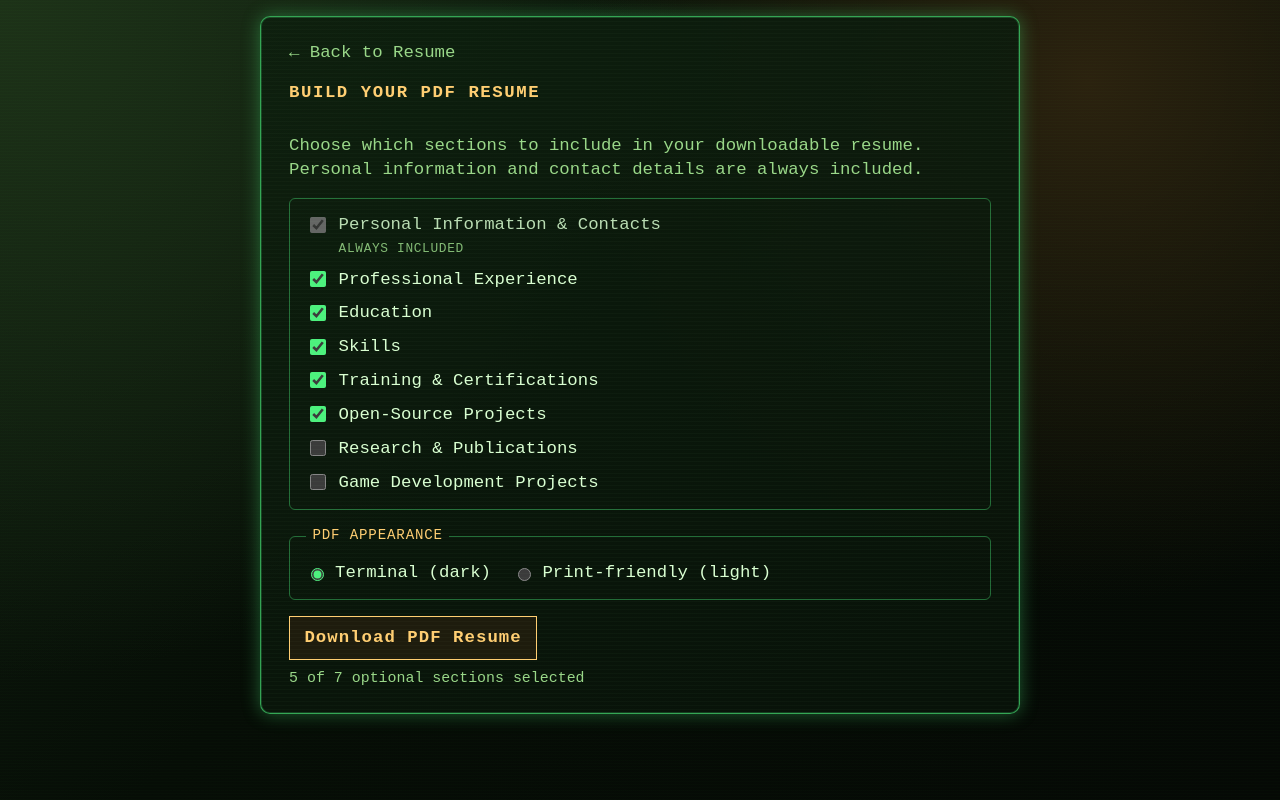
Test: CvPdfBuilderPage › shows an error message when generation fails
This screenshot has width=1280, height=800.
Click the button "Download PDF Resume".
click(413, 638)  # box [289,616,537,660]
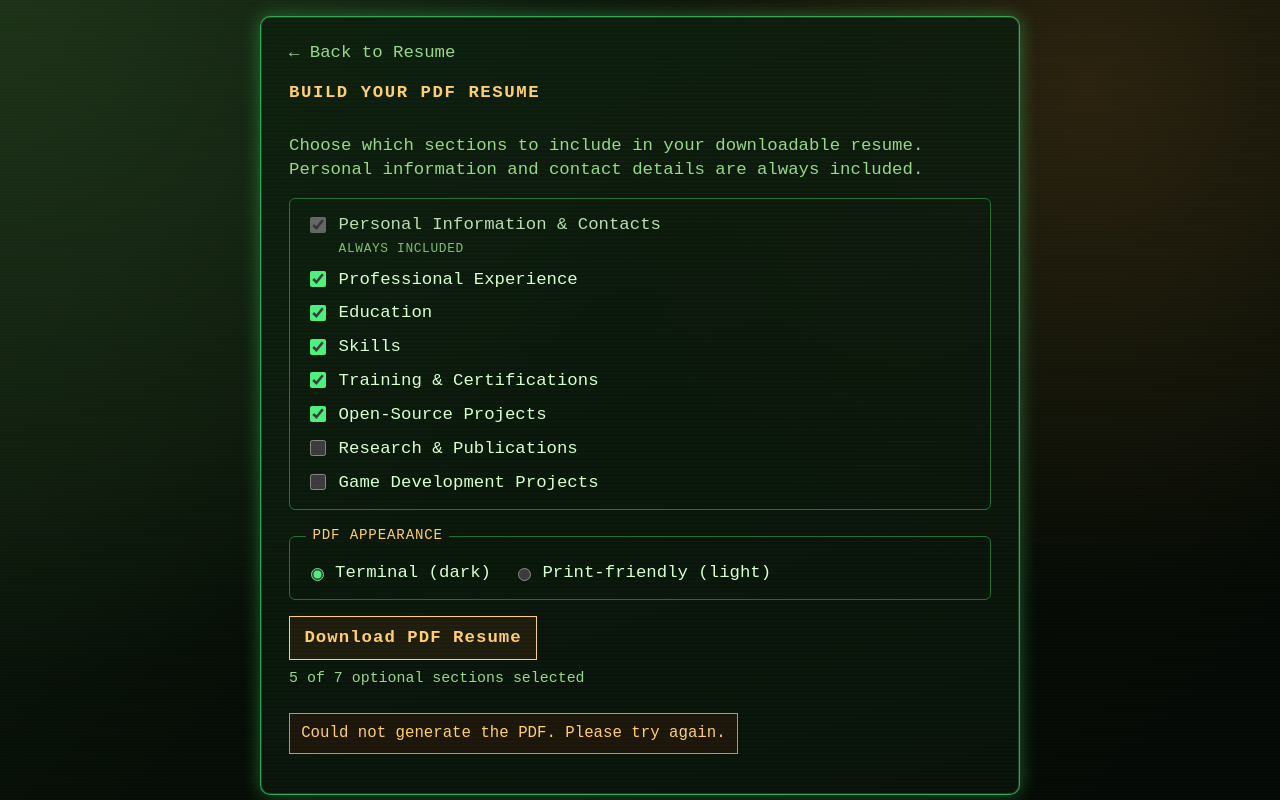
Expected: the message shows "Could not generate the PDF", [301,724,726,742]
